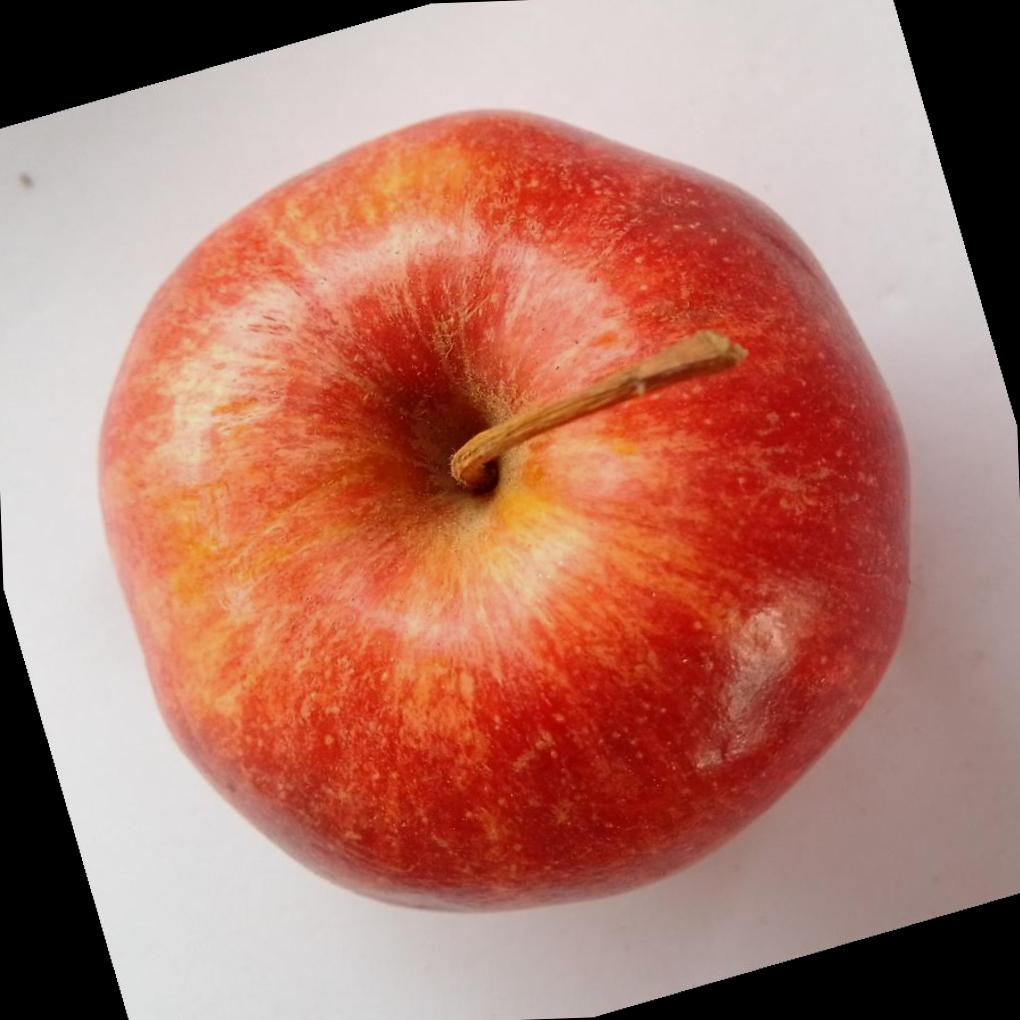FreshGuava: (95, 102, 913, 909)
